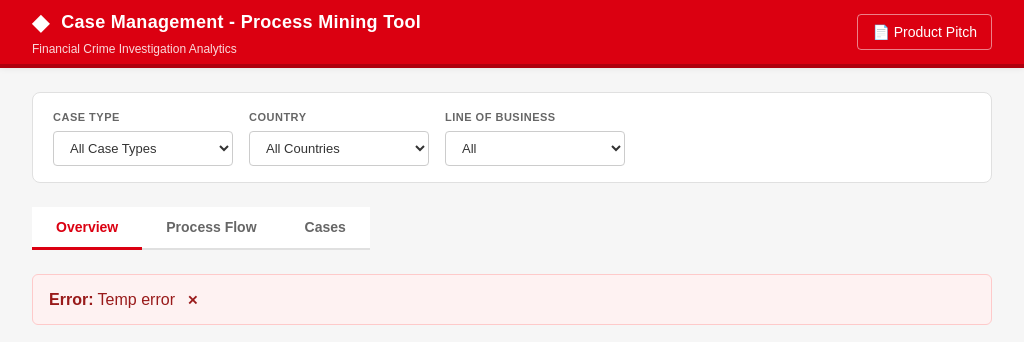
Test case: App › dismisses error banner on close click
Expected: the text "Error: Temp error ✕" is shown, [32, 274, 992, 325]
Click the button "✕": (193, 300) [187, 293, 198, 308]
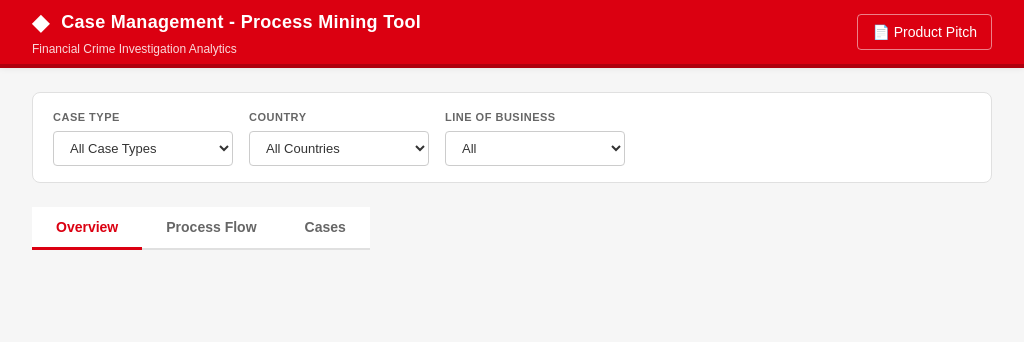
Expected: the text "Temp error" is gone
